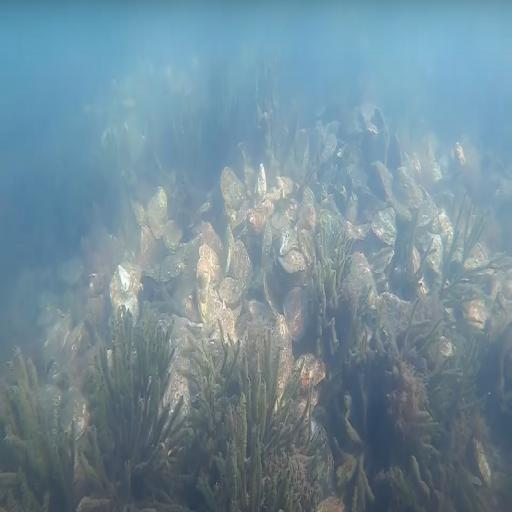Oyster-Closed: (271, 319, 295, 403), (377, 294, 416, 340), (347, 257, 379, 310), (165, 368, 192, 419), (286, 289, 310, 339), (229, 242, 254, 288), (265, 268, 286, 319), (371, 160, 396, 202), (420, 231, 444, 272), (148, 188, 168, 237), (225, 174, 247, 218), (201, 244, 223, 288), (298, 356, 327, 389), (374, 204, 397, 245), (218, 277, 248, 307), (204, 222, 225, 261), (197, 259, 212, 312), (476, 440, 491, 486), (416, 203, 440, 231), (278, 252, 306, 275), (273, 175, 295, 203), (165, 220, 183, 253), (255, 163, 268, 208), (315, 496, 350, 512), (370, 249, 396, 270), (323, 136, 338, 164), (227, 222, 235, 274), (263, 222, 274, 259), (412, 246, 421, 274)
Oyster-Open: (467, 299, 487, 331), (301, 205, 318, 236), (474, 243, 490, 265), (284, 238, 300, 256)
